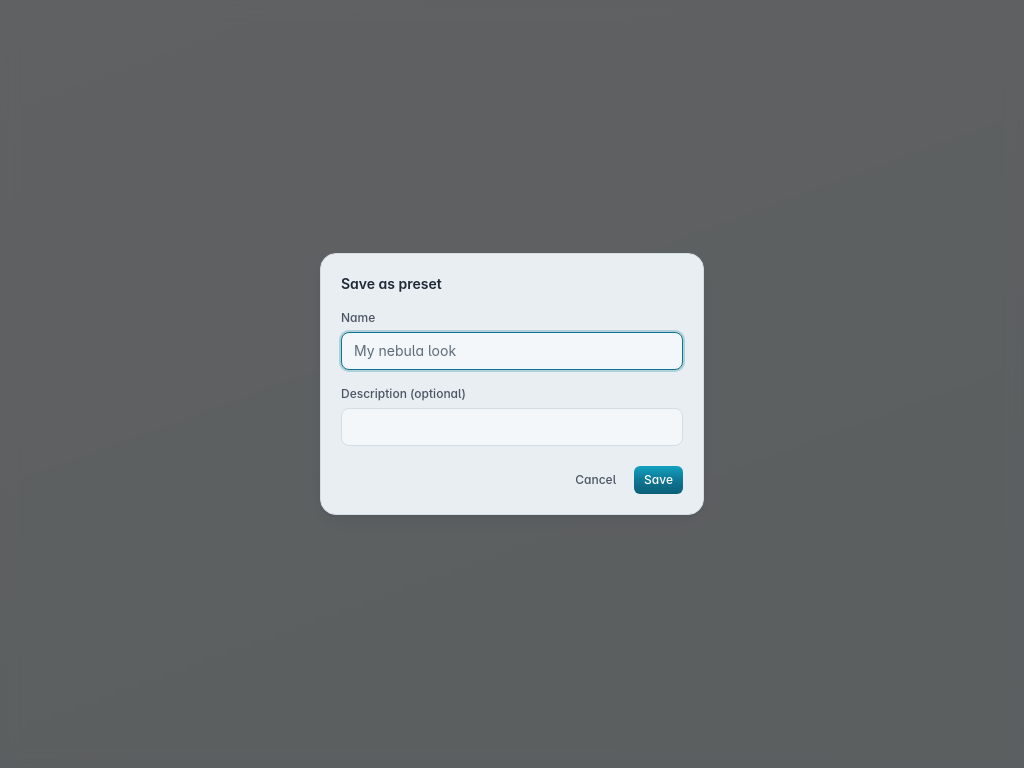
Test: SavePresetDialog › shows a generic message when saving fails with a non-Error value
The width and height of the screenshot is (1024, 768).
In the field with placeholder "My nebula look": (512, 351) [341, 332, 683, 370], type "Nebula"
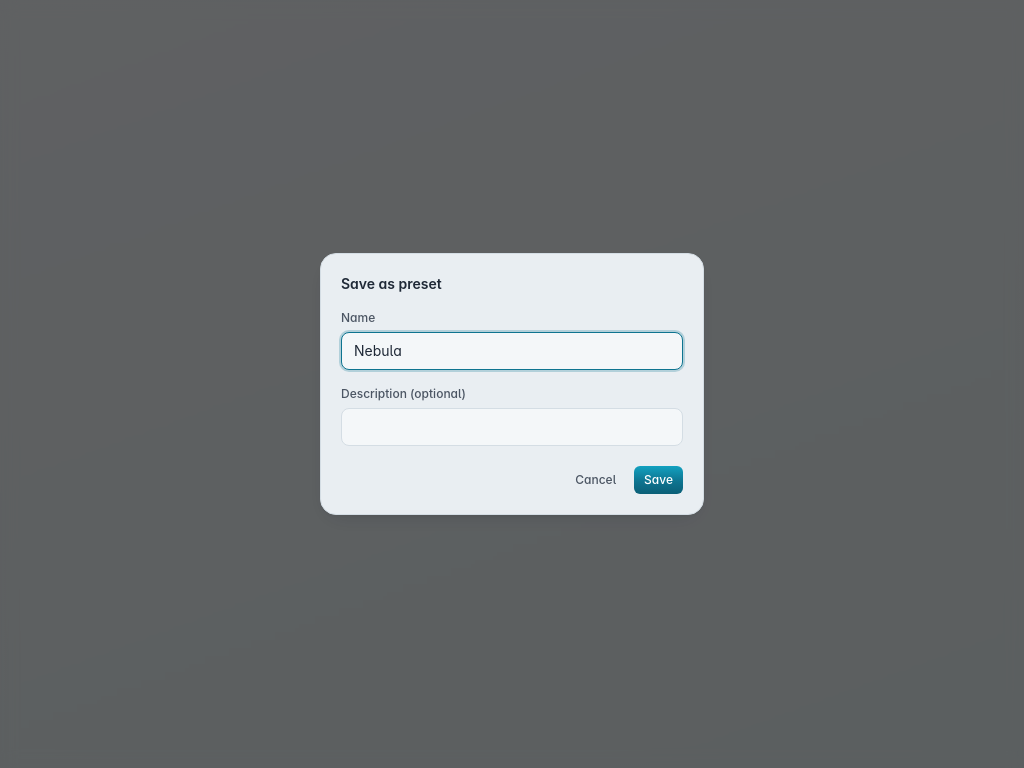
Click the button "Save": (659, 480) [634, 466, 683, 494]
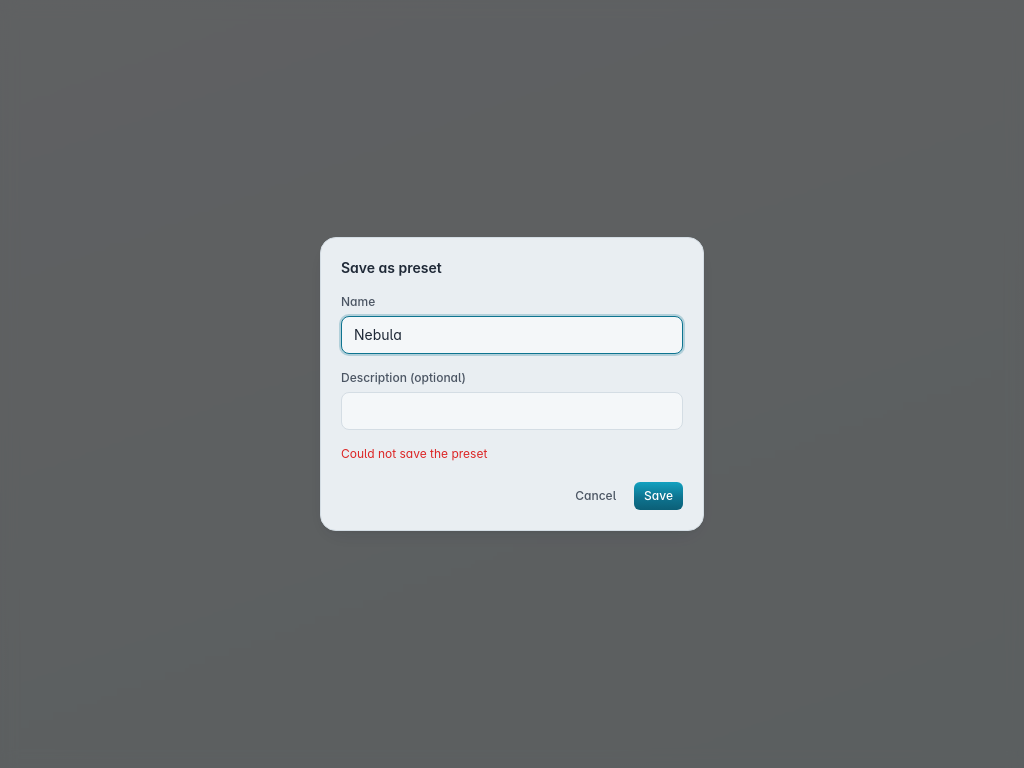
Expected: the text "Could not save the preset" is shown, [341, 446, 487, 461]
